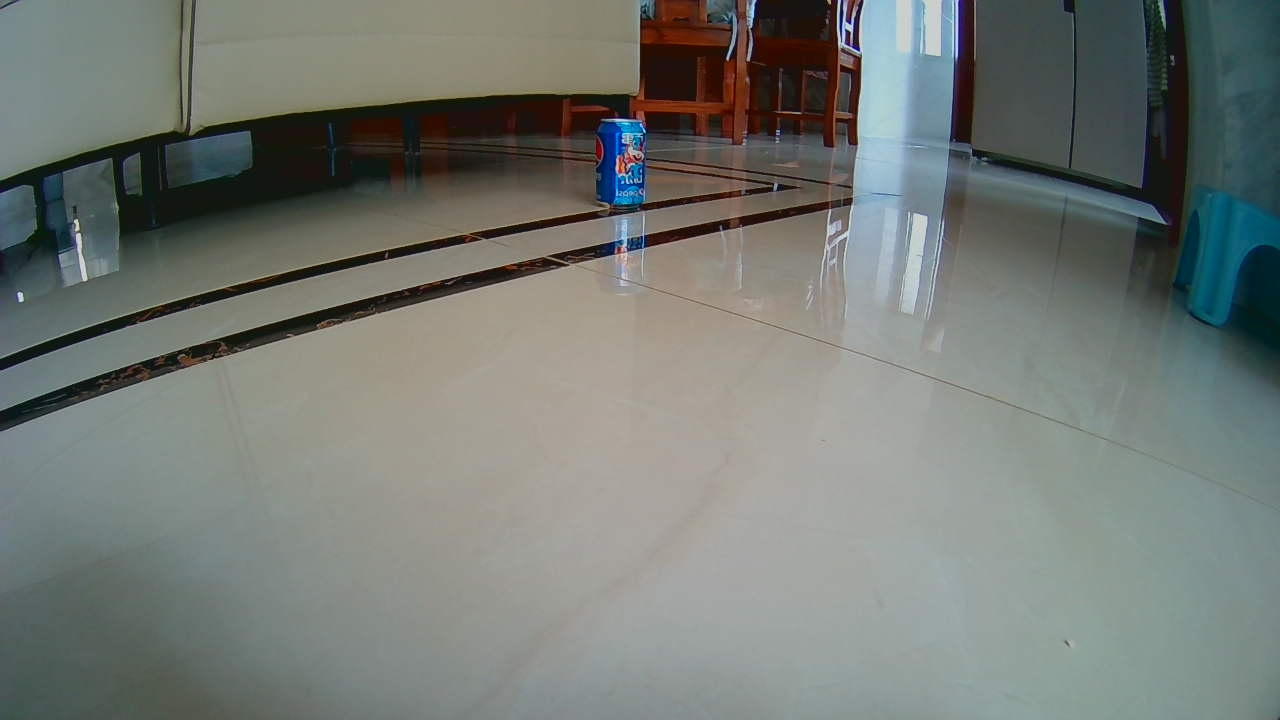pessi: (595, 118, 646, 209)
